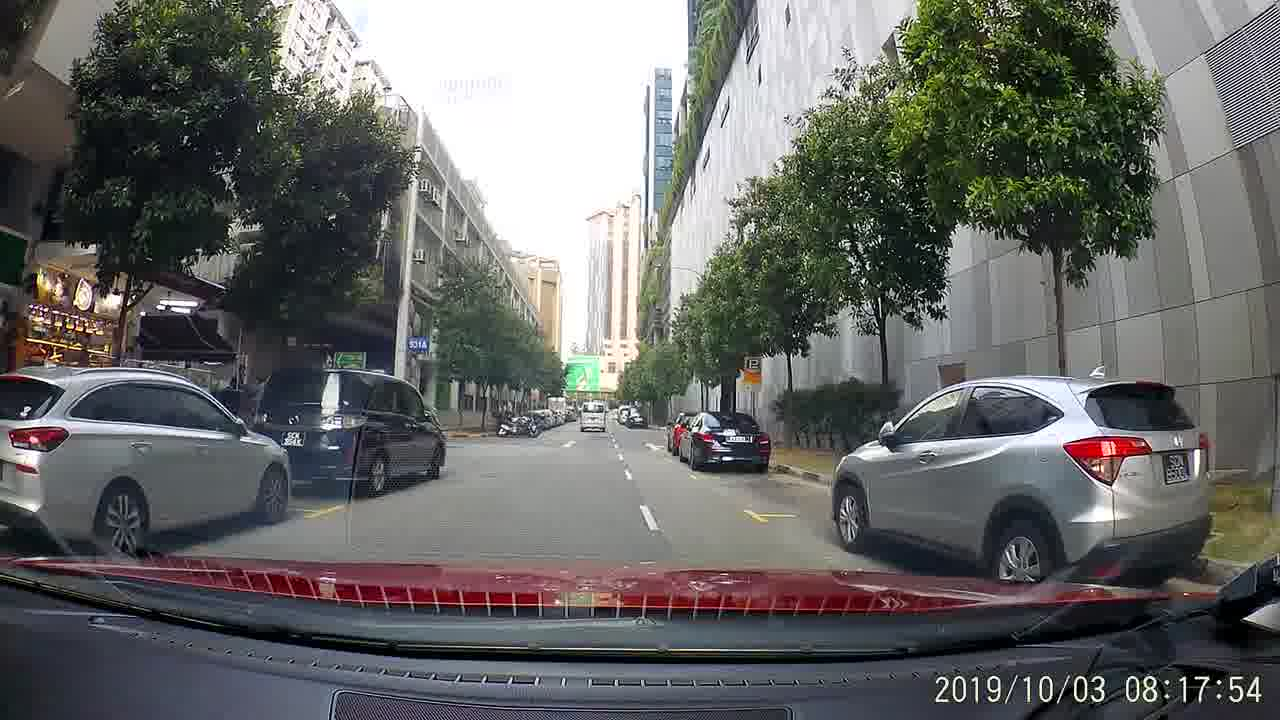car: (824, 369, 1214, 588), (3, 364, 290, 557), (251, 359, 446, 496), (677, 410, 772, 477)
